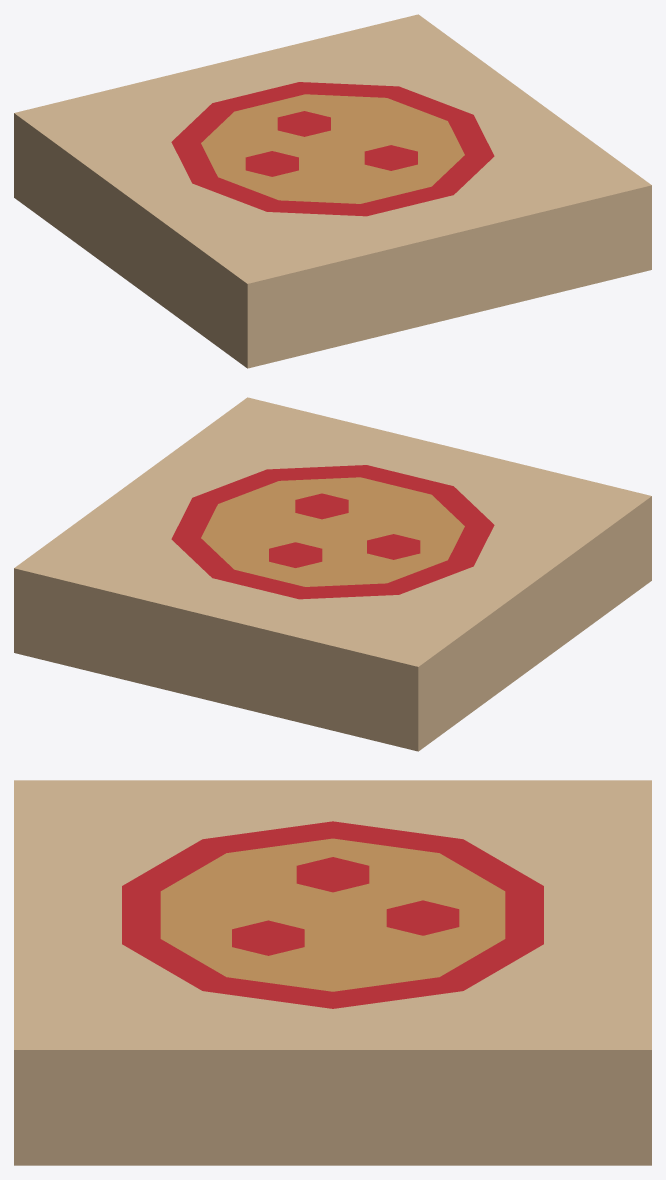
File: pizza-frozen.glb
3 renders of one model, top to bottom at view 1: azimuth 30°, elevation 25°; view 2: azimuth 150°, elevation 25°; view 3: azimuth 270°, elevation 25°, orthographic. The views are drawn at different scales.
Parts seen in each view (by area): view 1: pizza-frozen; view 2: pizza-frozen; view 3: pizza-frozen.
Part boxes in pixels (x1,y1,x2,y2): pizza-frozen: (14, 14, 651, 368); pizza-frozen: (14, 397, 651, 751); pizza-frozen: (14, 780, 651, 1165).
Size of the model in its own units: 0.3999 by 0.08 by 0.3999.
Materials: 1 (1 with a texture image).
